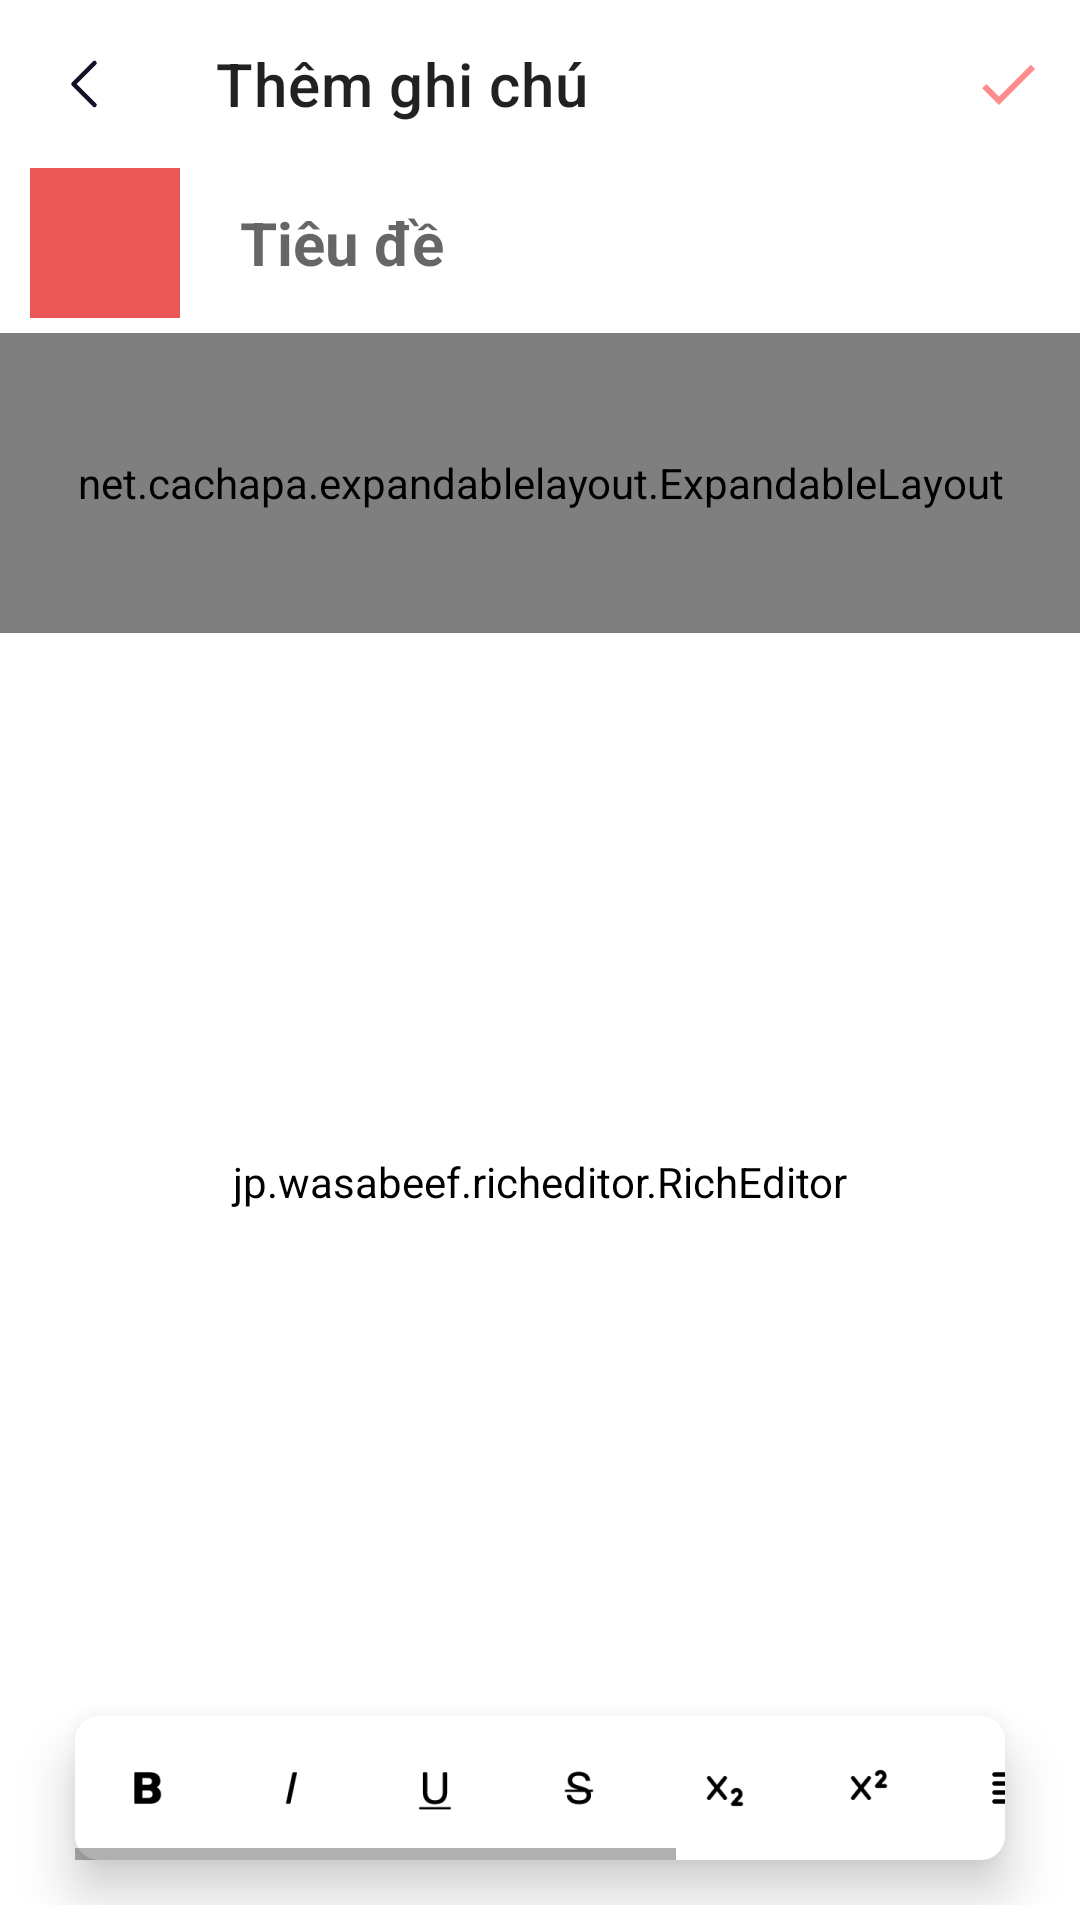

Named icons in this screenshot (1080px×1920px) and their bounding boxes, [left=x1, top=y1, right=x2, bottom=y2]:
subscript: [left=706, top=1776, right=744, bottom=1806]
superscript: [left=850, top=1769, right=888, bottom=1800]
